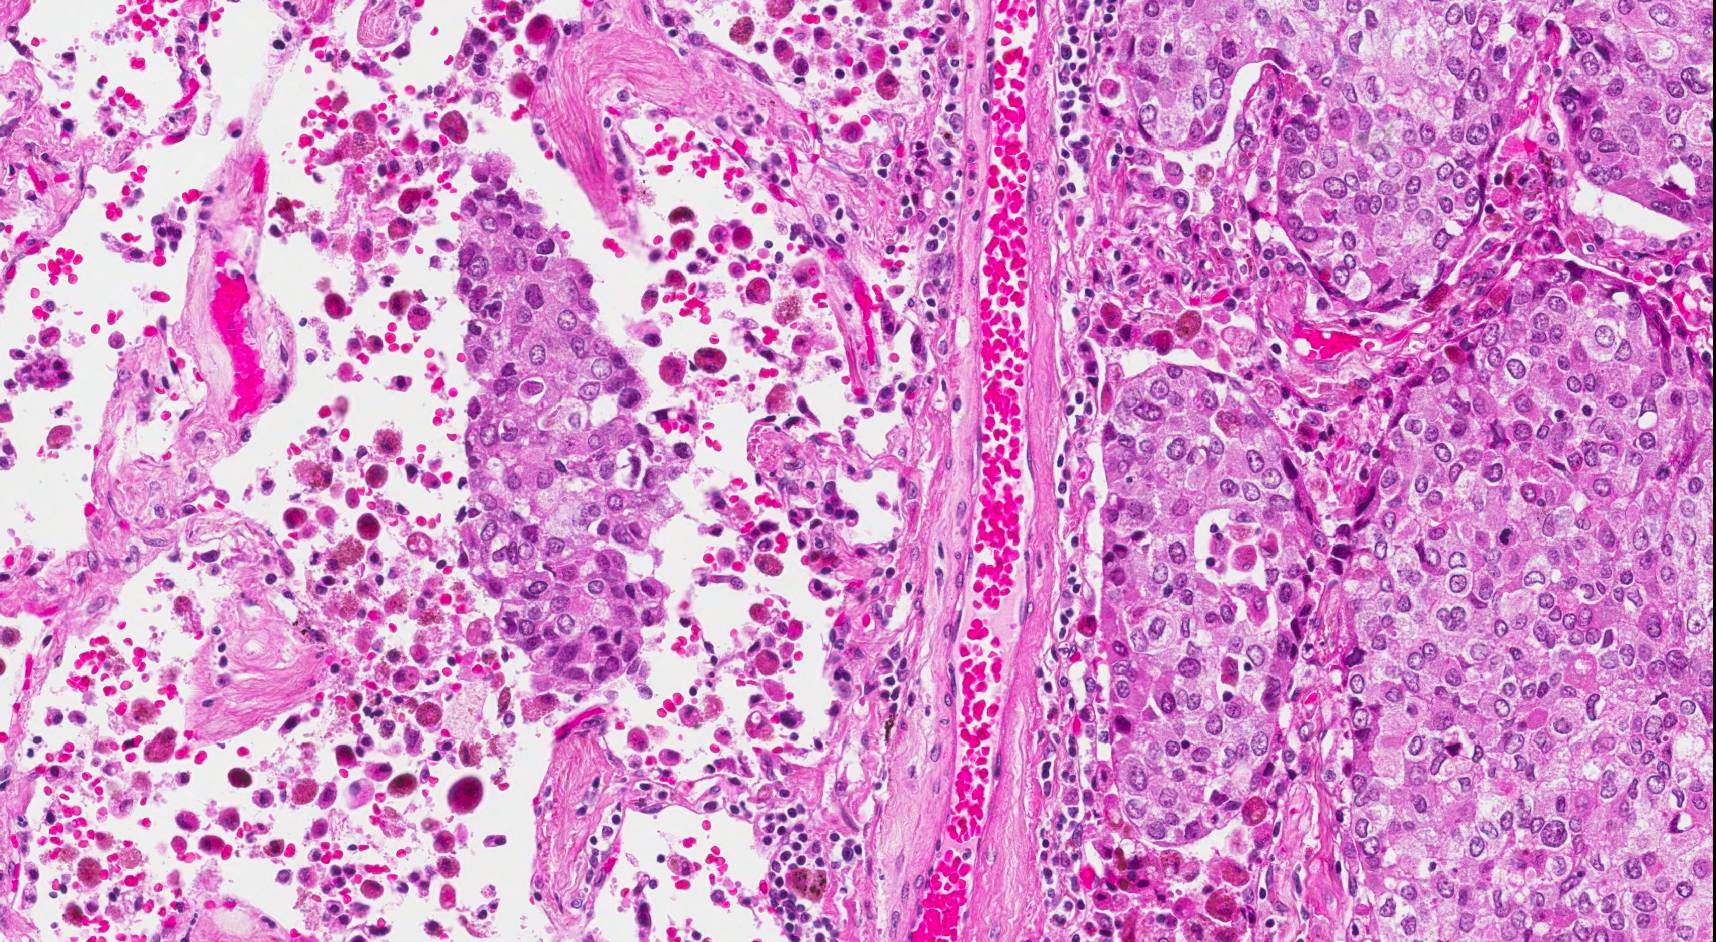stas: (446, 185, 669, 694)
